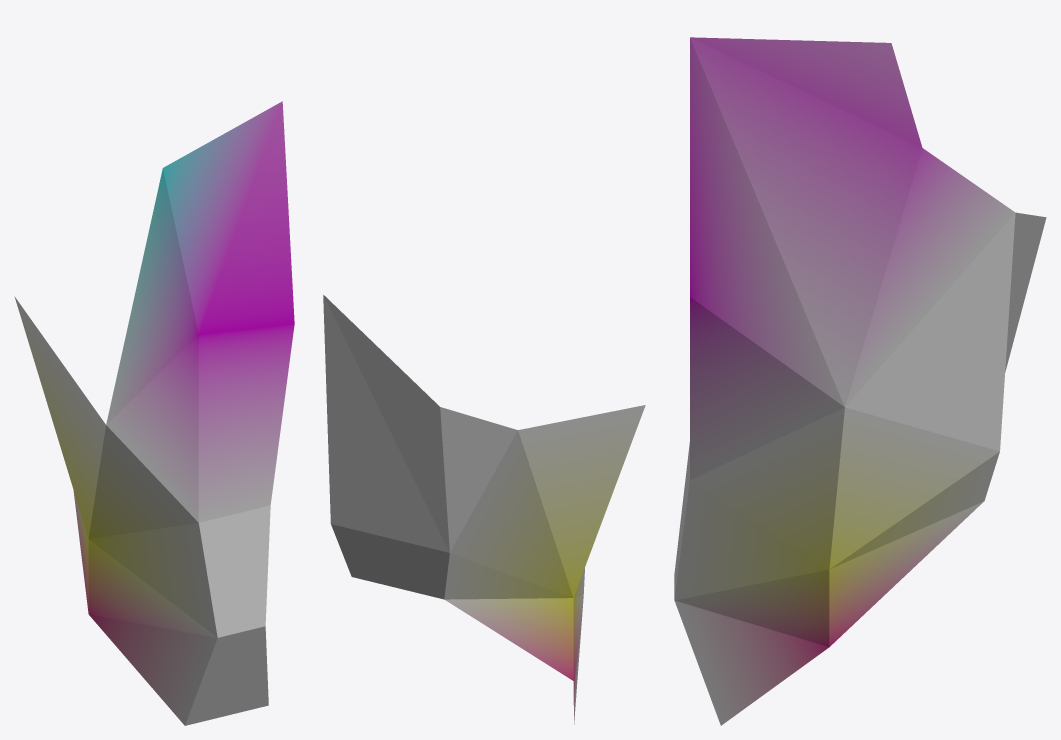
The picture shows the model from 3 angles, left to right: view 1: azimuth 30°, elevation 25°; view 2: azimuth 150°, elevation 25°; view 3: azimuth 270°, elevation 25°; orthographic projection. The views are drawn at different scales.
Parts seen in each view (by area): view 1: model_10FF; view 2: model_10FF; view 3: model_10FF.
Part boxes in pixels (left/top/right/bottom): model_10FF: left=14, top=101, right=294, bottom=725; model_10FF: left=323, top=295, right=645, bottom=724; model_10FF: left=674, top=37, right=1046, bottom=725.
Size of the model in its own units: 18 by 50 by 24.
